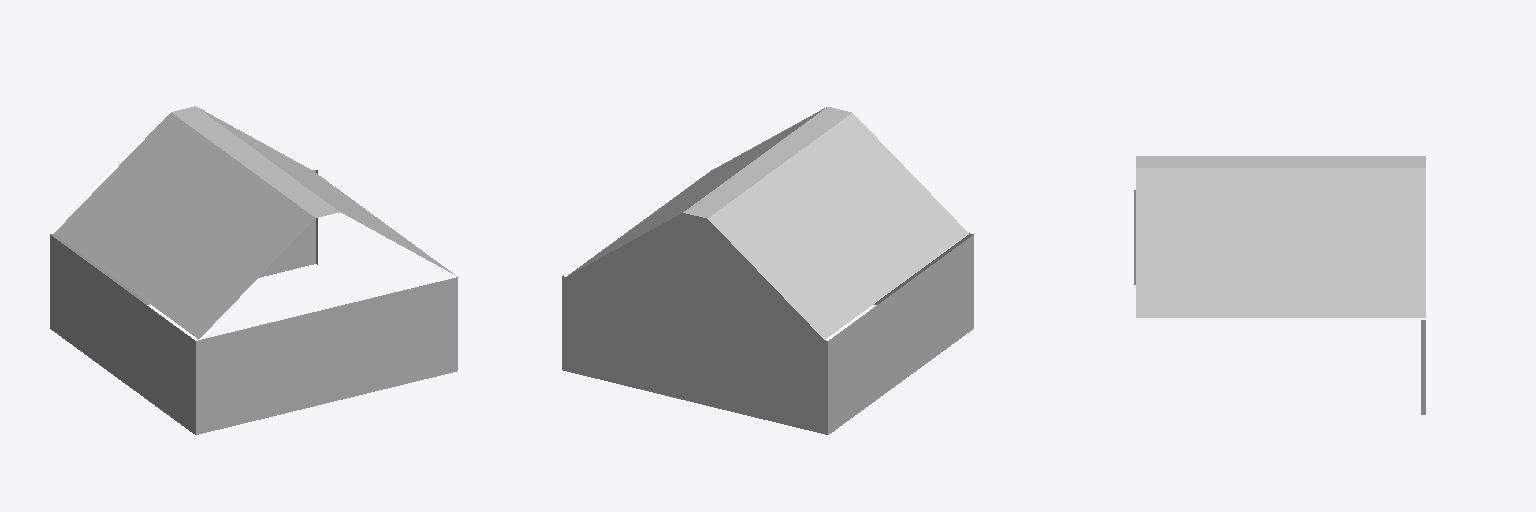
The model's file is levelthreew.obj.
The picture shows the model from 3 angles: view 1: azimuth 30°, elevation 25°; view 2: azimuth 150°, elevation 25°; view 3: azimuth 270°, elevation 25°; orthographic projection.
Visible parts, largest first — view 1: wireframe_Cube.006; view 2: wireframe_Cube.006; view 3: wireframe_Cube.006.
Part boxes in pixels (x1,y1,x2,y2): wireframe_Cube.006: (50, 106, 457, 434); wireframe_Cube.006: (562, 107, 973, 434); wireframe_Cube.006: (1134, 156, 1425, 414).
Bounding box in the file's own units: 9.46 × 6.36 × 8.96.